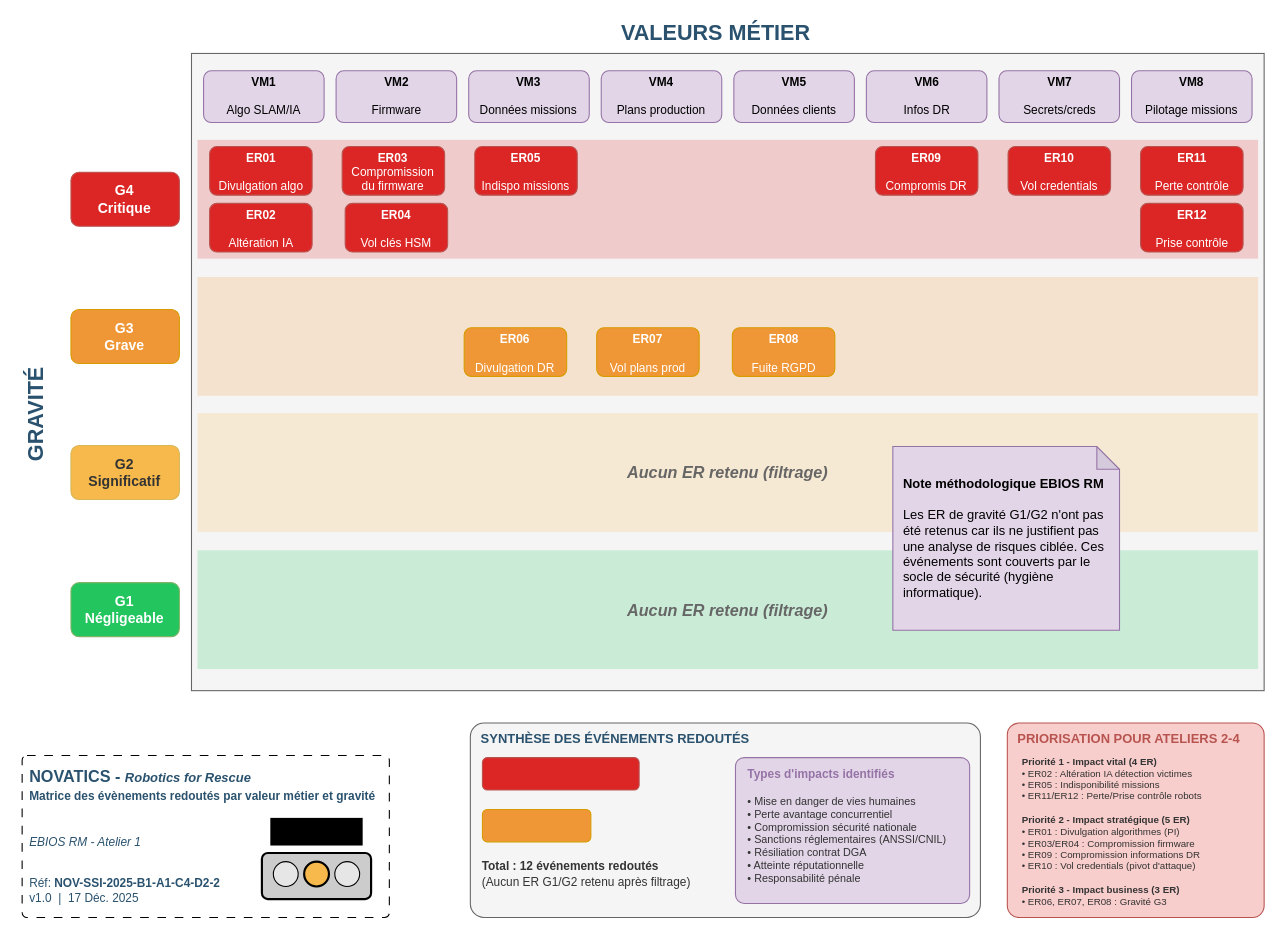
Some shapes in this 1283 by 936 pixel diagram are drawn without their labels. The centre of each missing label's shape, as x and y in pixels:
G3 : 3 ER (25%): point 536,825
G4 Critique : 9 ER (75%): point 560,773
TLP:AMBER: point 316,831
